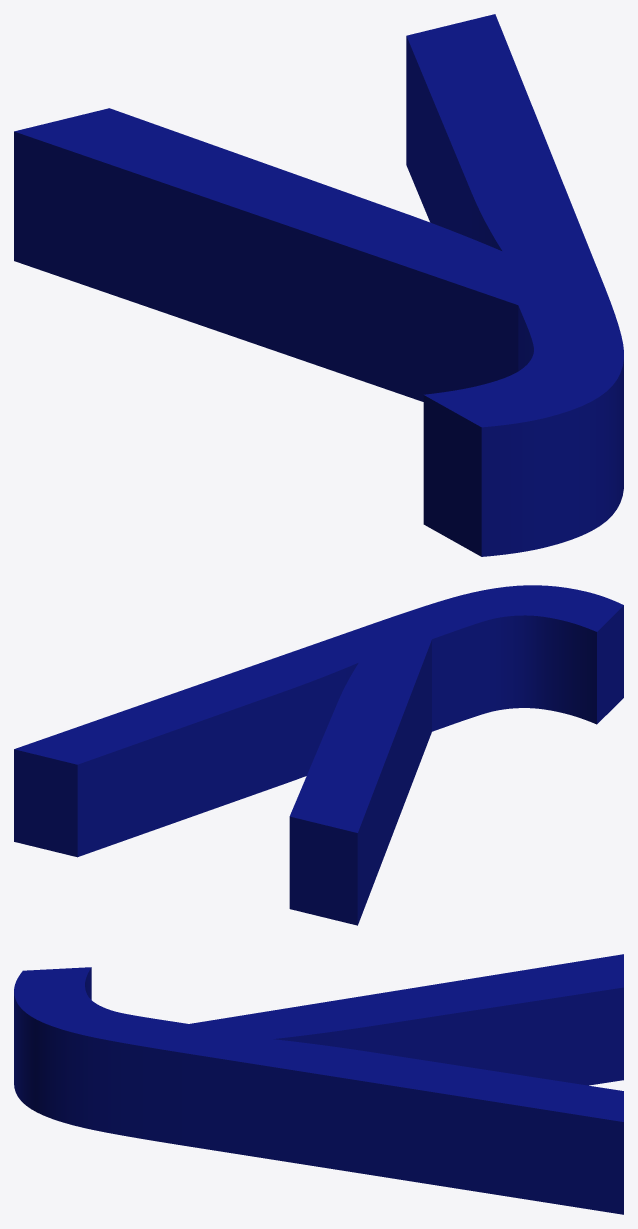
The picture shows the model from 3 angles, top to bottom: view 1: azimuth 30°, elevation 25°; view 2: azimuth 150°, elevation 25°; view 3: azimuth 270°, elevation 25°; orthographic projection. The views are drawn at different scales.
Parts seen in each view (by area): view 1: TextPlus069; view 2: TextPlus069; view 3: TextPlus069.
Part boxes in pixels (<box>): TextPlus069: <box>14,14,623,556</box>; TextPlus069: <box>14,585,623,925</box>; TextPlus069: <box>14,954,623,1214</box>.
Size of the model in its own units: 17.02 by 4.38 by 26.12.
